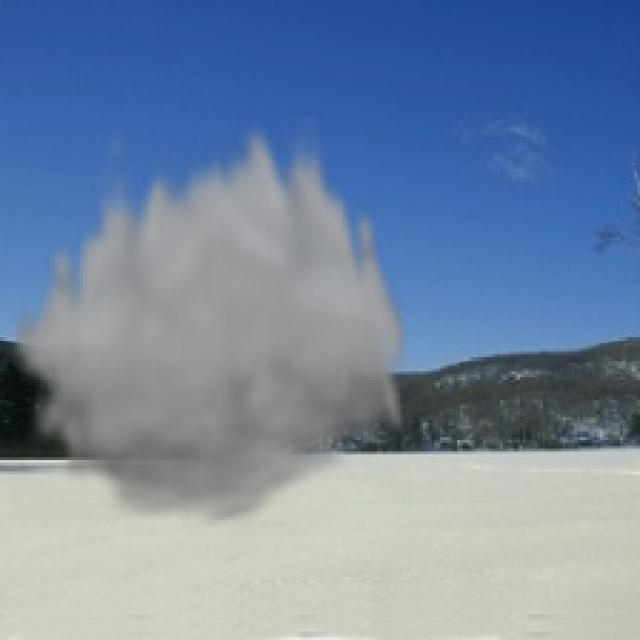smoke: (6, 111, 411, 534)
